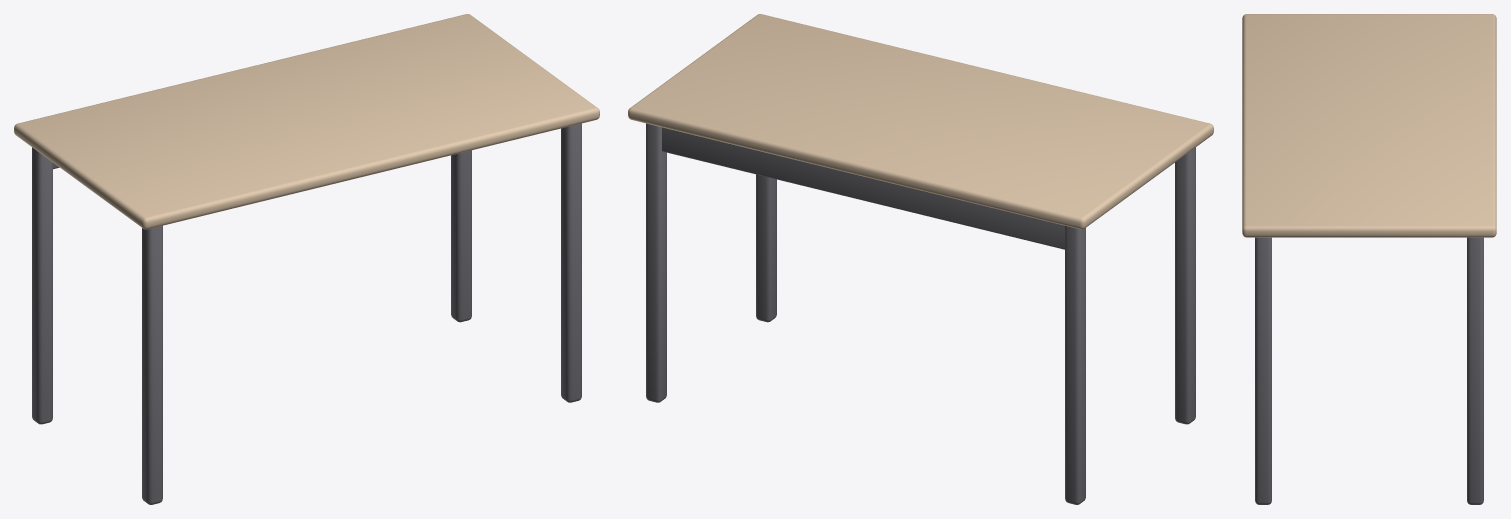
File: Desk.glb
3 views of the same model, side by side, from view 1: azimuth 30°, elevation 25°; view 2: azimuth 150°, elevation 25°; view 3: azimuth 270°, elevation 25° (orthographic). The views are drawn at different scales.
Parts seen in each view (by area): view 1: Desk.Top, Desk.Leg-1-1, Desk.Leg1-1, Desk.Leg-11, Desk.Leg11; view 2: Desk.Top, Desk.Rail, Desk.Leg-11, Desk.Leg11, Desk.Leg-1-1, Desk.Leg1-1; view 3: Desk.Top, Desk.Leg1-1, Desk.Leg11.
Boxes of the visible parts, x1=… form: Desk.Top: x1=14, y1=14, x2=599, y2=229; Desk.Leg-1-1: x1=142, y1=225, x2=162, y2=504; Desk.Leg1-1: x1=561, y1=123, x2=581, y2=402; Desk.Leg-11: x1=32, y1=147, x2=52, y2=424; Desk.Leg11: x1=451, y1=150, x2=471, y2=322; Desk.Top: x1=628, y1=14, x2=1213, y2=229; Desk.Rail: x1=662, y1=127, x2=1064, y2=249; Desk.Leg-11: x1=1065, y1=225, x2=1085, y2=504; Desk.Leg11: x1=646, y1=123, x2=666, y2=402; Desk.Leg-1-1: x1=1175, y1=147, x2=1195, y2=424; Desk.Leg1-1: x1=756, y1=174, x2=776, y2=322; Desk.Top: x1=1242, y1=14, x2=1496, y2=237; Desk.Leg1-1: x1=1255, y1=237, x2=1271, y2=504; Desk.Leg11: x1=1467, y1=237, x2=1483, y2=504.
Bounding box in the file's own units: 1.2 × 0.74 × 0.6.
